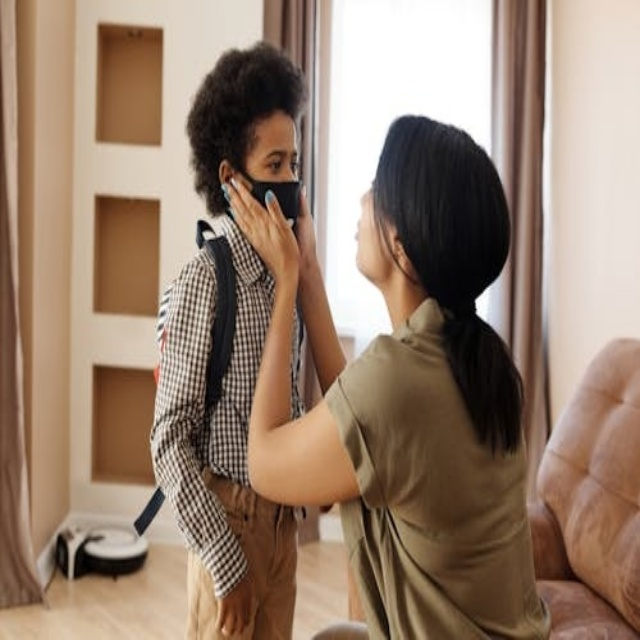Mascara: (226, 172, 301, 226)
Sin_gafas: (255, 136, 303, 176)
Sin_guantes: (220, 171, 300, 274), (210, 565, 261, 634)
Sin_mascara: (352, 211, 380, 272)
